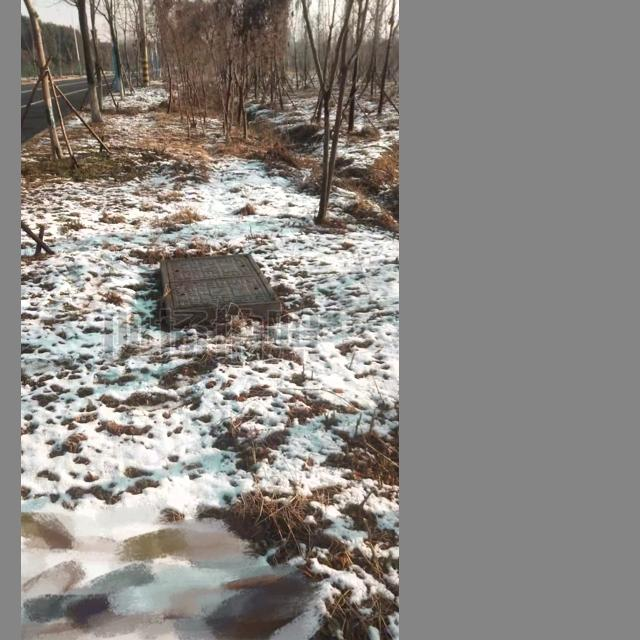circle: (154, 253, 289, 335)
